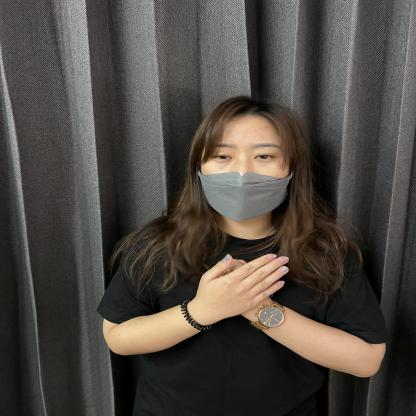Grieve: (152, 228, 353, 334)
